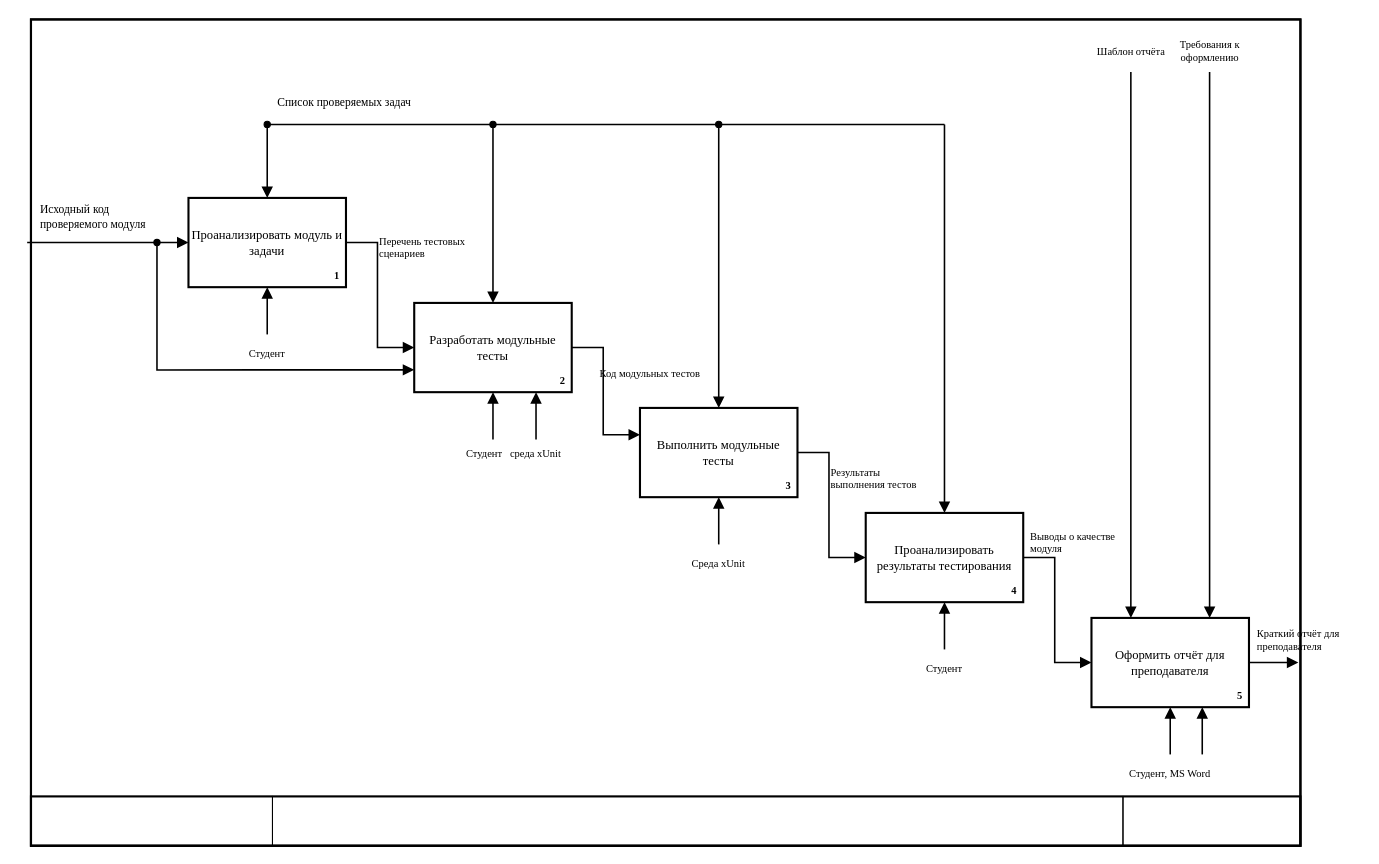
This 1379x864 diagram has some shape labels left out. The shapes that lost their labels are listed below. From the top down, each one's centre as x and y in pixels, then its label:
At pixel 151 820: "Узел: A0".
At pixel 697 820: "Название: Модульное тестирование программного модуля".
At pixel 1211 820: "Номер: A0".
